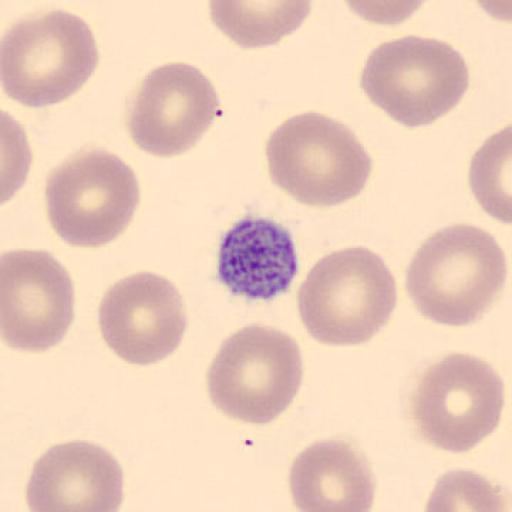Platelet: (214, 213, 302, 303)
RBC: (404, 221, 508, 329), (263, 109, 374, 210), (358, 32, 471, 130), (294, 245, 398, 349), (205, 321, 306, 427), (44, 144, 142, 250), (2, 7, 100, 110), (411, 350, 505, 455), (126, 60, 221, 160), (96, 269, 190, 369), (2, 247, 76, 355), (24, 437, 127, 512), (287, 436, 377, 512), (207, 0, 313, 49), (468, 120, 512, 228), (422, 467, 512, 512), (2, 108, 34, 207), (340, 0, 434, 27), (471, 0, 512, 24)
